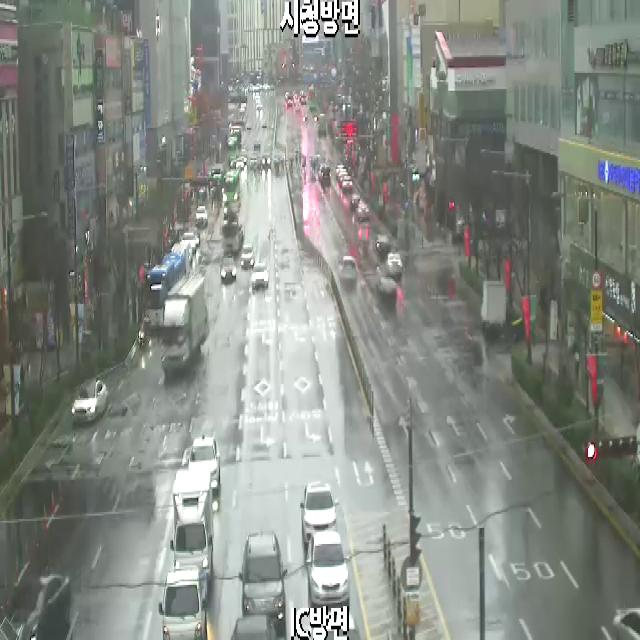Bus: (144, 252, 186, 329), (223, 169, 239, 203)
Car: (238, 530, 288, 634), (8, 573, 71, 640), (305, 532, 351, 608), (300, 482, 339, 543), (189, 435, 220, 490), (71, 378, 108, 423), (311, 612, 362, 640), (230, 616, 279, 640), (612, 608, 639, 640), (377, 278, 397, 303), (338, 256, 357, 282), (252, 264, 270, 290), (385, 253, 403, 277), (220, 256, 236, 282), (180, 233, 196, 254), (241, 244, 255, 268), (356, 200, 369, 222), (195, 206, 208, 226), (375, 235, 390, 252), (318, 164, 331, 183), (350, 194, 363, 211), (189, 228, 200, 247), (342, 176, 353, 193), (338, 168, 348, 184), (262, 154, 271, 170), (335, 164, 344, 179), (229, 156, 237, 169), (237, 160, 244, 170)
Truck: (171, 469, 212, 578), (161, 274, 205, 374), (158, 566, 208, 640), (481, 282, 506, 330), (220, 222, 244, 253)
